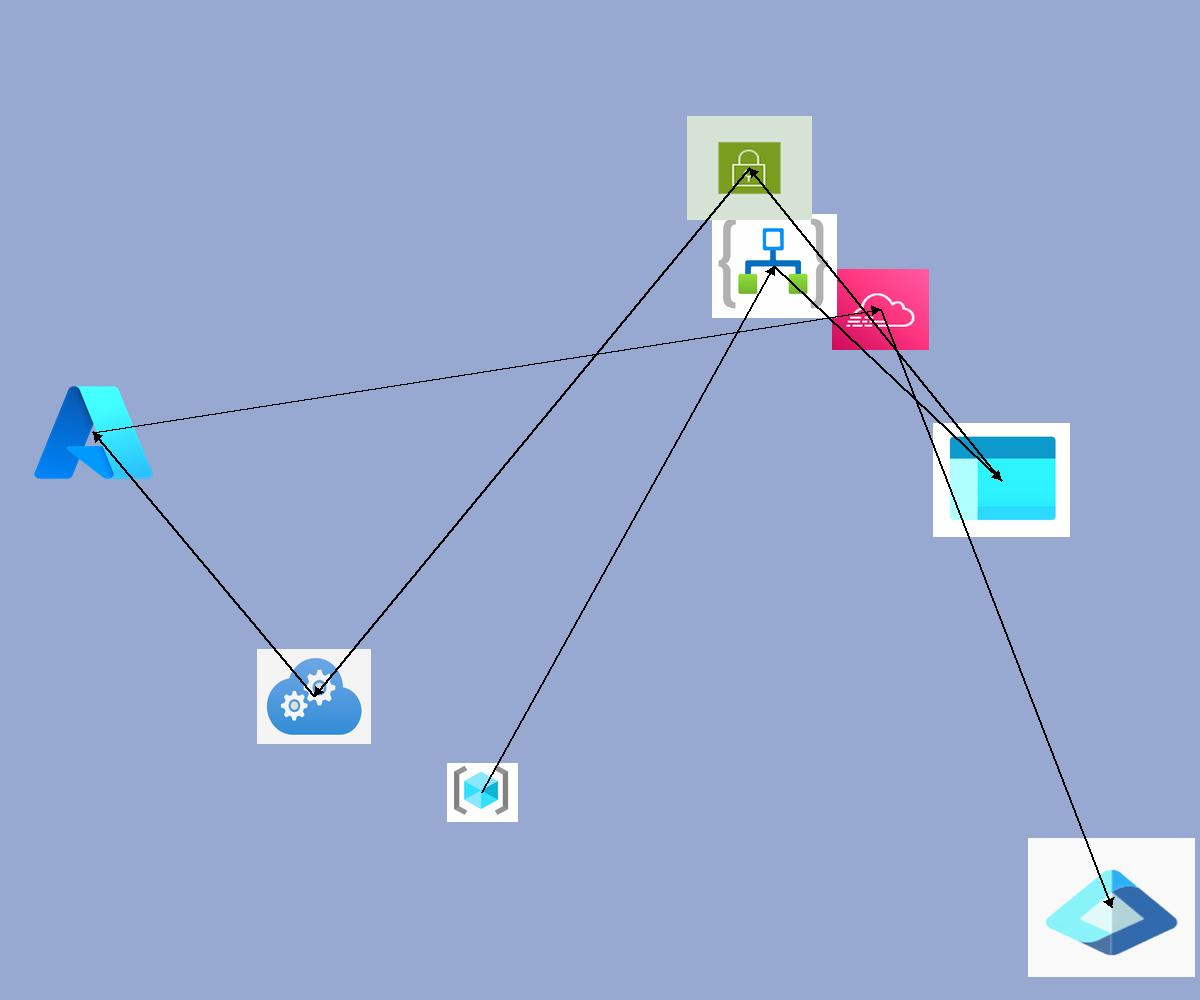AWS-CloudTrail: (832, 269, 929, 350)
AWS-Public-subnet: (687, 116, 812, 220)
Azure_cloud_services: (257, 649, 371, 744)
Azure_integration-204-Logic-Apps: (712, 214, 837, 318)
Azure_management-portal: (933, 423, 1070, 537)
Azure_microsoft_entra: (1028, 838, 1195, 977)
Azure_resource_group: (447, 763, 518, 822)
Azure_services: (29, 379, 158, 486)
